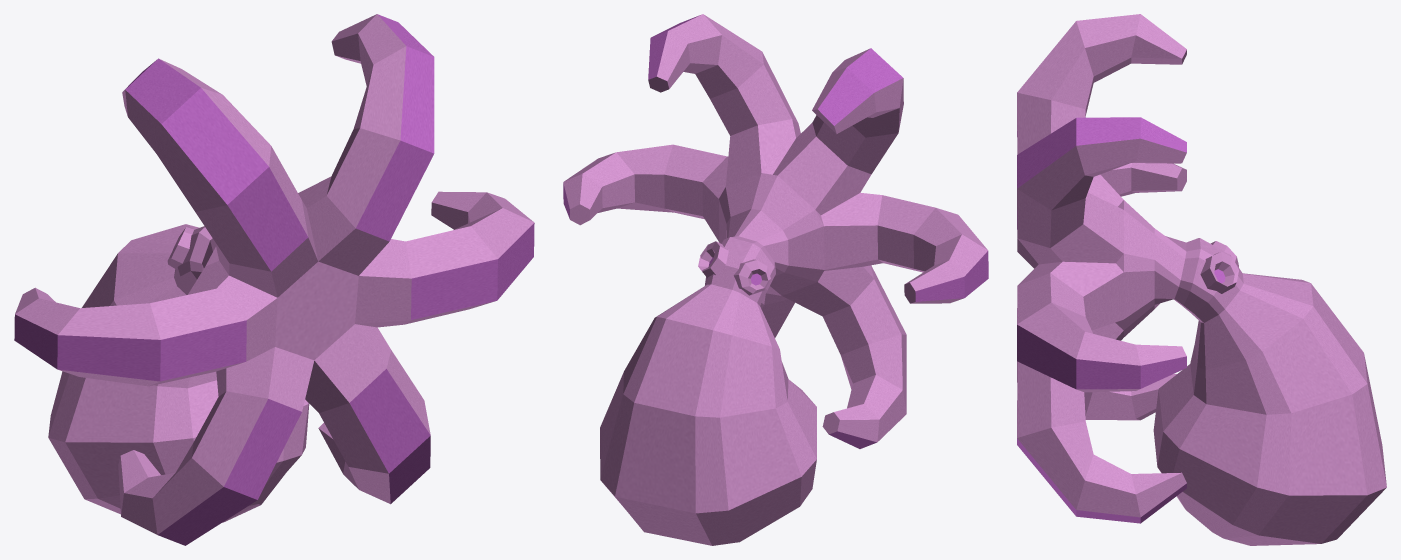
File: pink_symbol_ocotopus.FBX
3 views of the same model, side by side, from view 1: azimuth 30°, elevation 25°; view 2: azimuth 150°, elevation 25°; view 3: azimuth 270°, elevation 25° (orthographic). The views are drawn at different scales.
Visible parts, largest first — view 1: ocotopus; view 2: ocotopus; view 3: ocotopus.
Part boxes in pixels (bbox=[...]): ocotopus: bbox=[14, 14, 534, 545]; ocotopus: bbox=[563, 14, 988, 545]; ocotopus: bbox=[1017, 14, 1386, 545].
Bounding box in the file's own units: 322 × 338 × 236.
